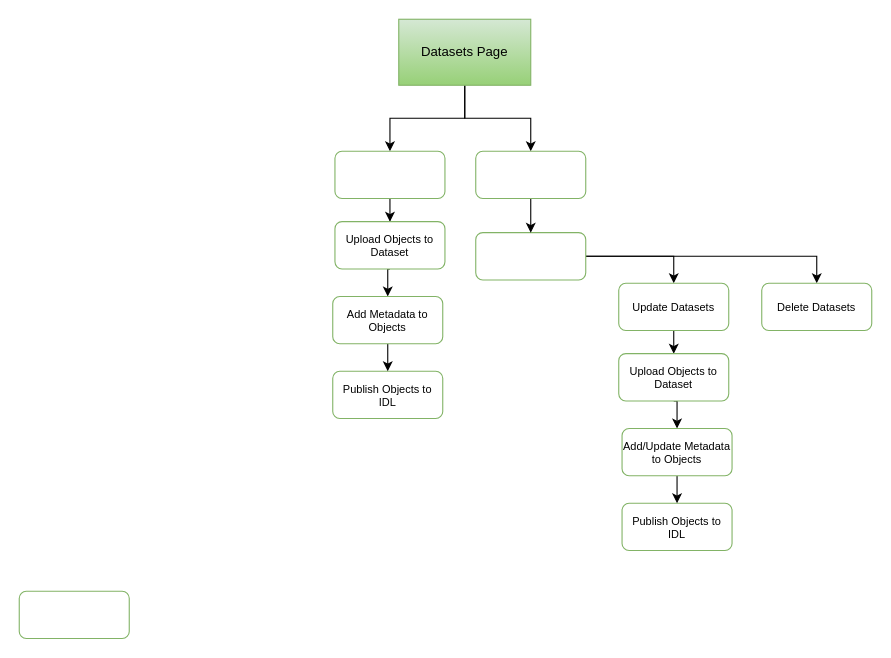
This 891x658 diagram has some shape labels left out. The box of each missing label's shape, as (x1, y1, x2, y2) in pixels:
Create New Datasets: (334, 150, 445, 199)
List Results: (475, 232, 586, 280)
Read Datasets: (18, 590, 129, 639)
Search Datasets: (475, 150, 586, 199)
